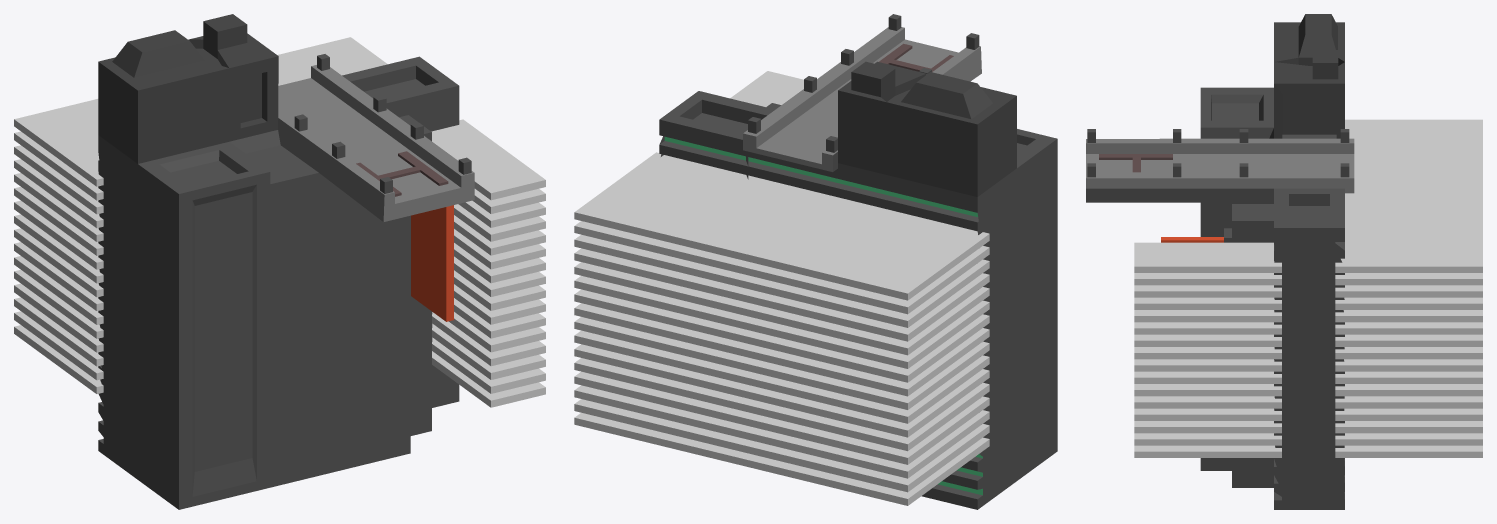
Rendered from Высотка2.fbx.
3 renders of one model, left to right at view 1: azimuth 30°, elevation 25°; view 2: azimuth 150°, elevation 25°; view 3: azimuth 270°, elevation 25°, orthographic. The views are drawn at different scales.
Visible parts, largest first — view 1: Cube.004, Cube.005; view 2: Cube.005, Cube.004; view 3: Cube.005, Cube.004.
Boxes of the visible parts, x1,y1,x2,y2 form: Cube.004: [98, 14, 474, 509]; Cube.005: [14, 37, 545, 407]; Cube.005: [574, 71, 989, 505]; Cube.004: [659, 14, 1057, 509]; Cube.005: [1134, 119, 1482, 457]; Cube.004: [1086, 14, 1354, 509].
Size of the model in its own units: 4.7 by 5.46 by 5.37.
